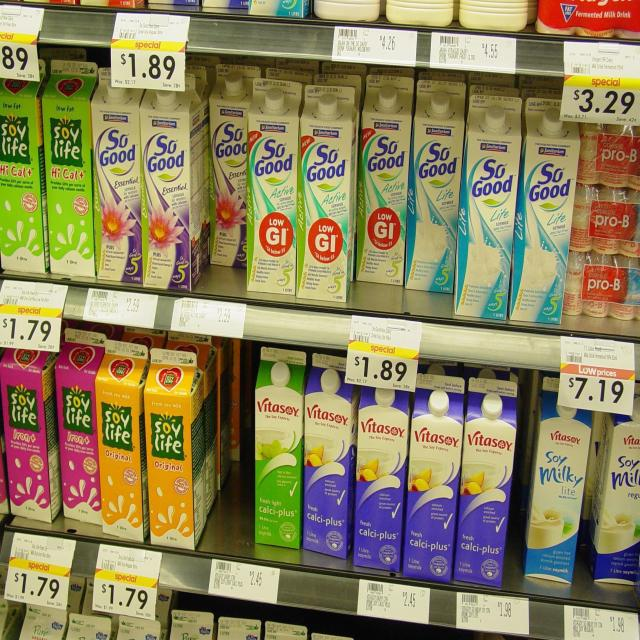empty_space: (218, 388, 246, 540)
